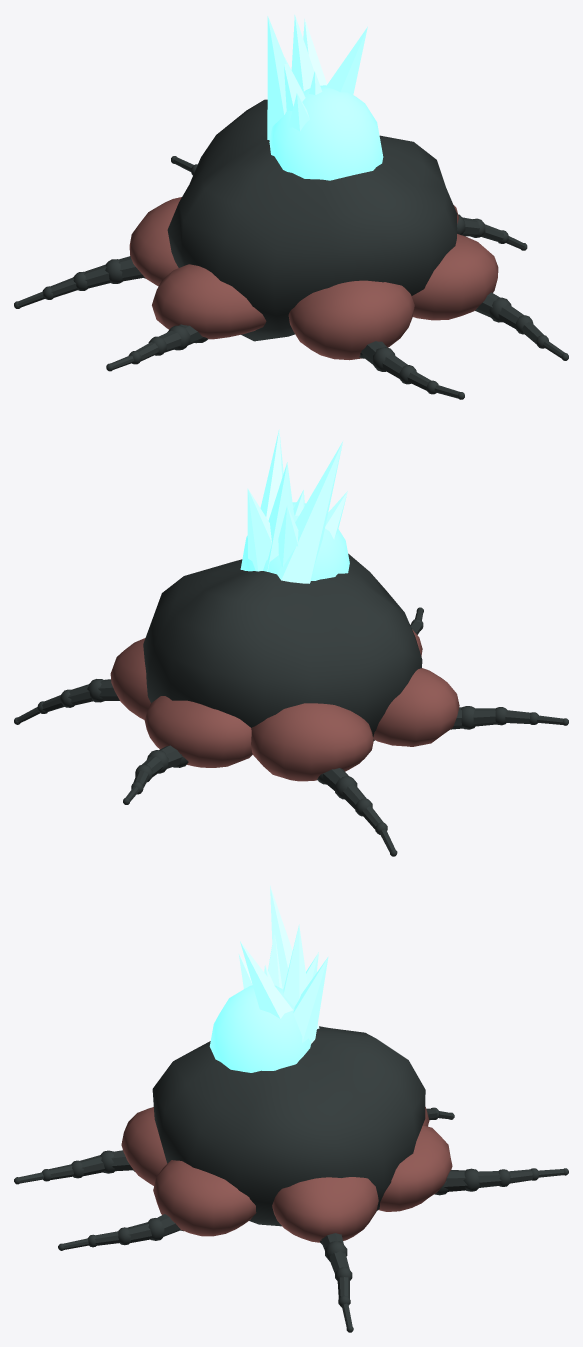
File: hive_node.glb
3 views of the same model, one above another, from view 1: azimuth 30°, elevation 25°; view 2: azimuth 150°, elevation 25°; view 3: azimuth 270°, elevation 25° (orthographic). The views are drawn at different scales.
Parts seen in each view (by area): view 1: body_mesh; view 2: body_mesh; view 3: body_mesh.
Boxes of the visible parts, x1,y1,x2,y2 form: body_mesh: (14,15,568,399); body_mesh: (14,429,568,856); body_mesh: (14,885,568,1332).
Bounding box in the file's own units: 1.99 × 1.29 × 2.07.
